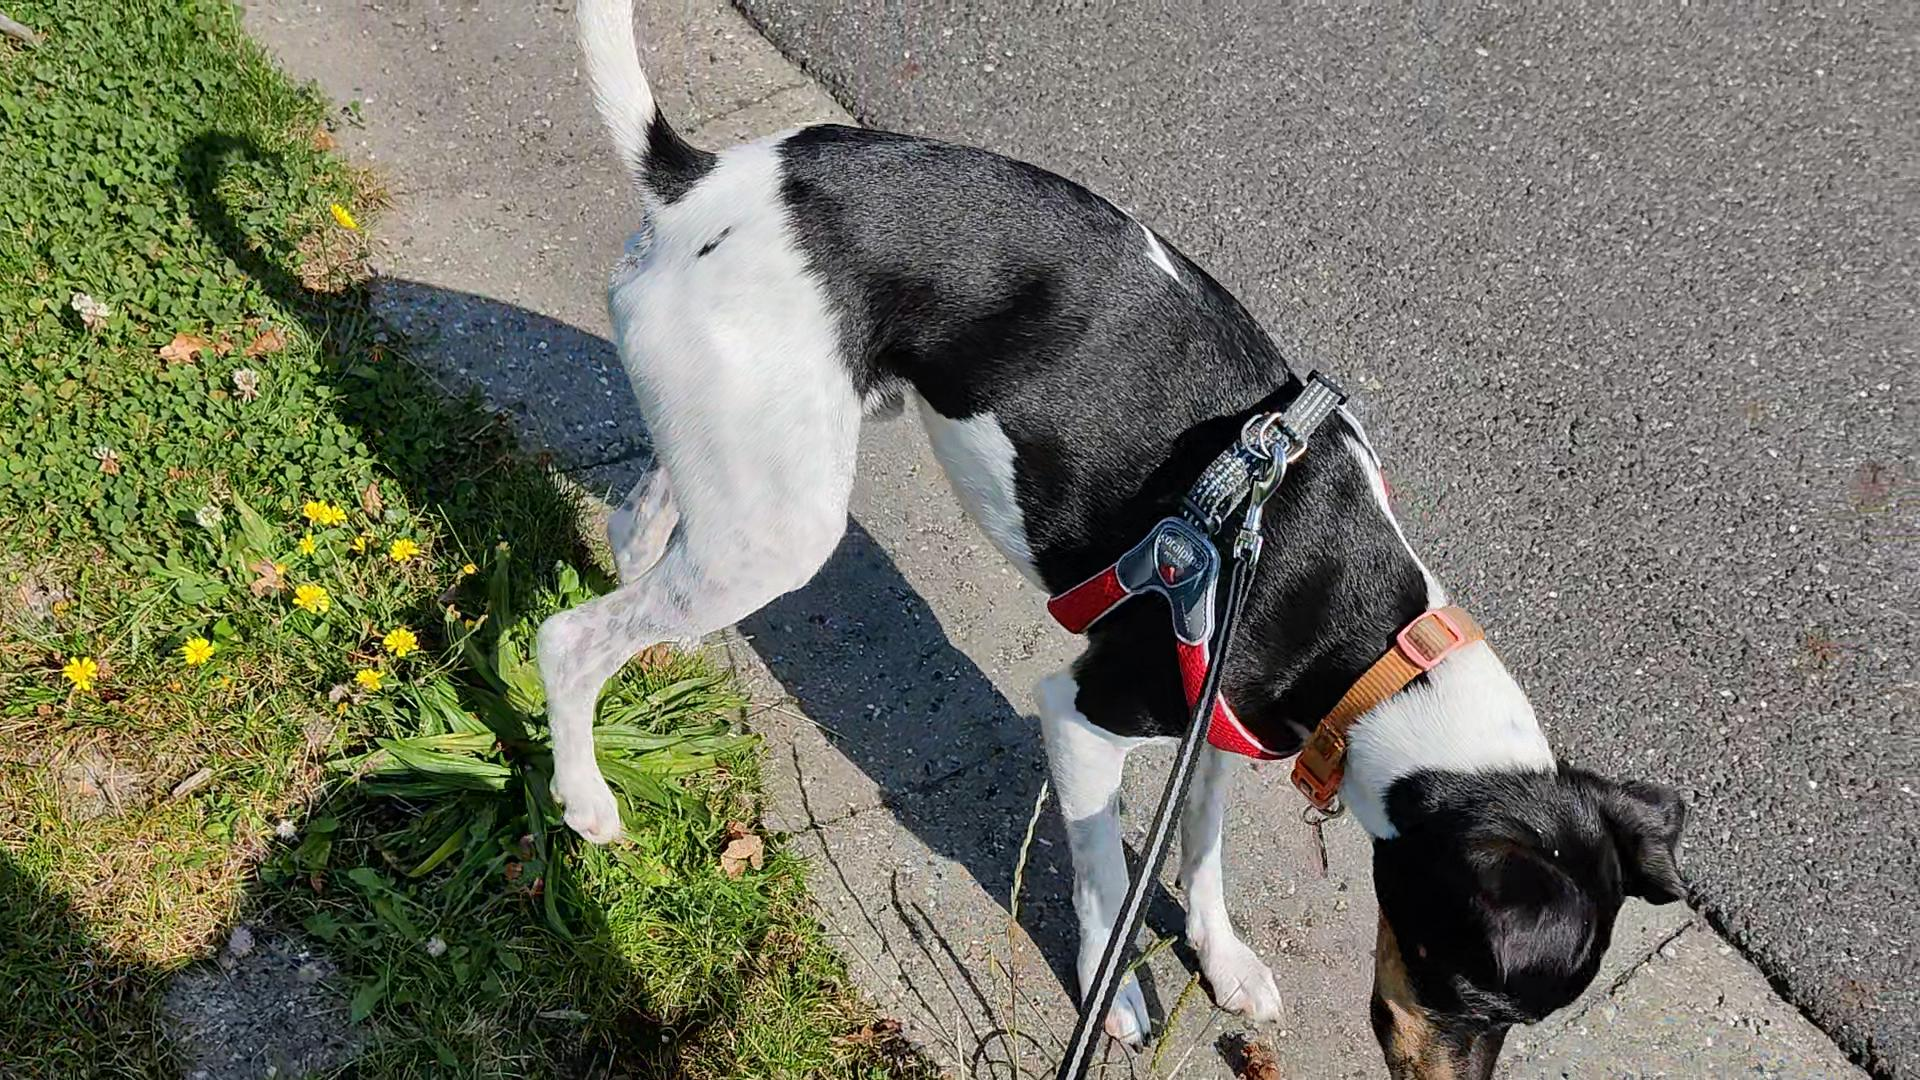Dog: (495, 0, 1713, 1047)
